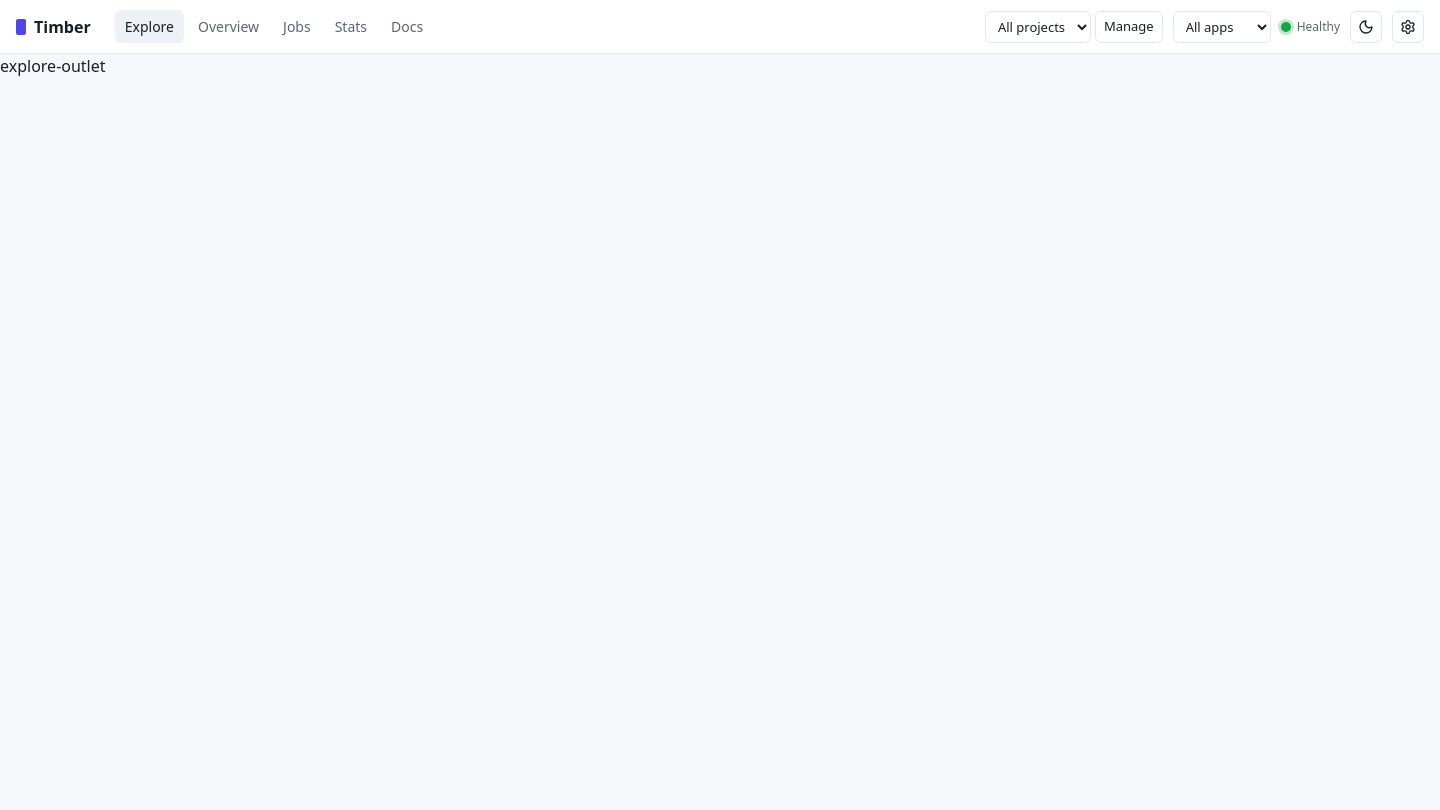
Test case: RootShell › opens the REAL SettingsDialog (with a read-key field), not a placeholder
This screenshot has width=1440, height=810.
Click the button named "settings". click: click(1408, 26)
box: [1392,10,1424,42]
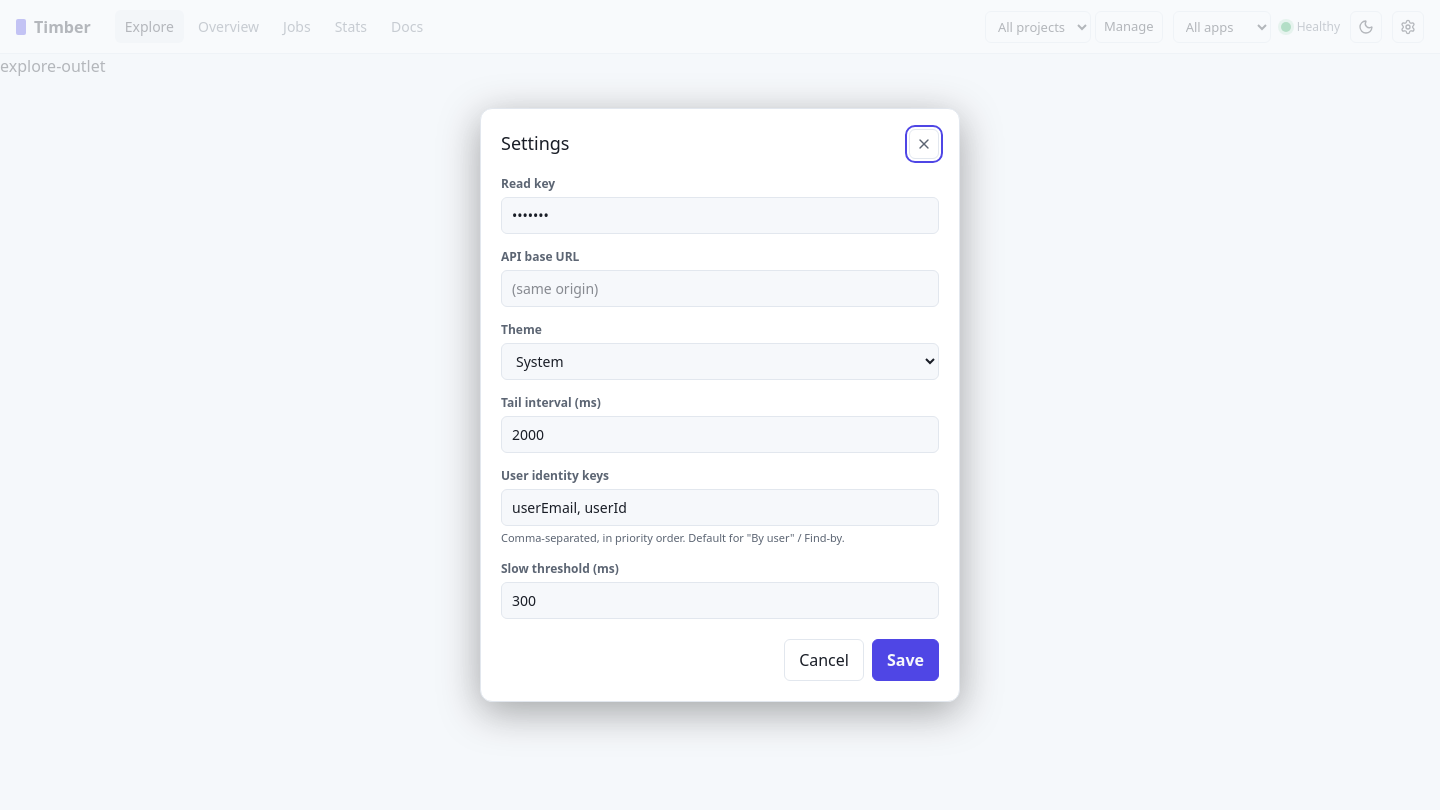
Result: the password field labelled "Read key" is shown at [501,197,939,234]
Result: the button "Save" is shown at [872,639,939,681]
